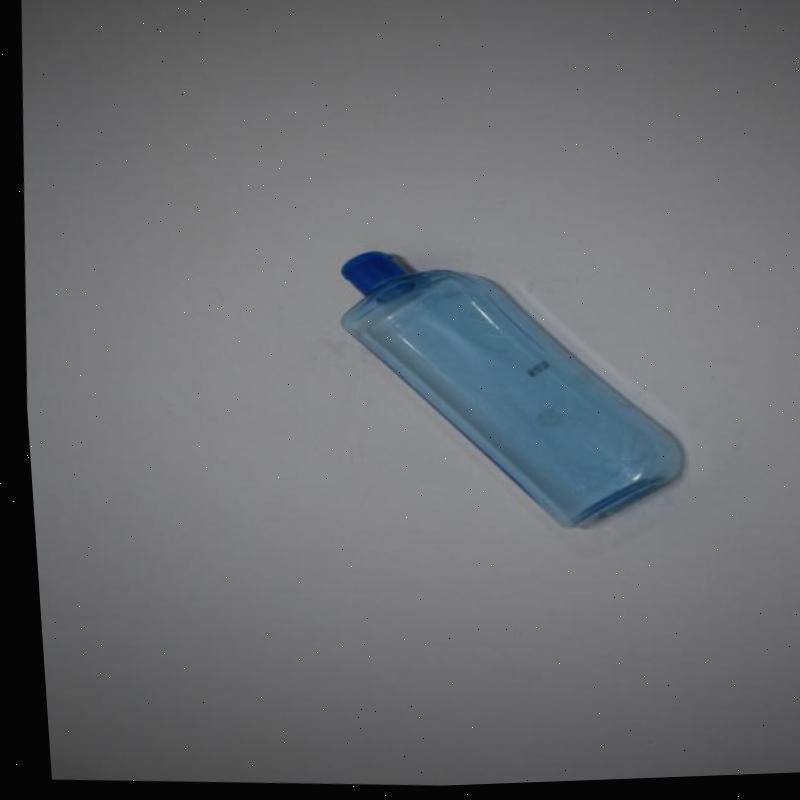botella: (322, 244, 692, 547)
